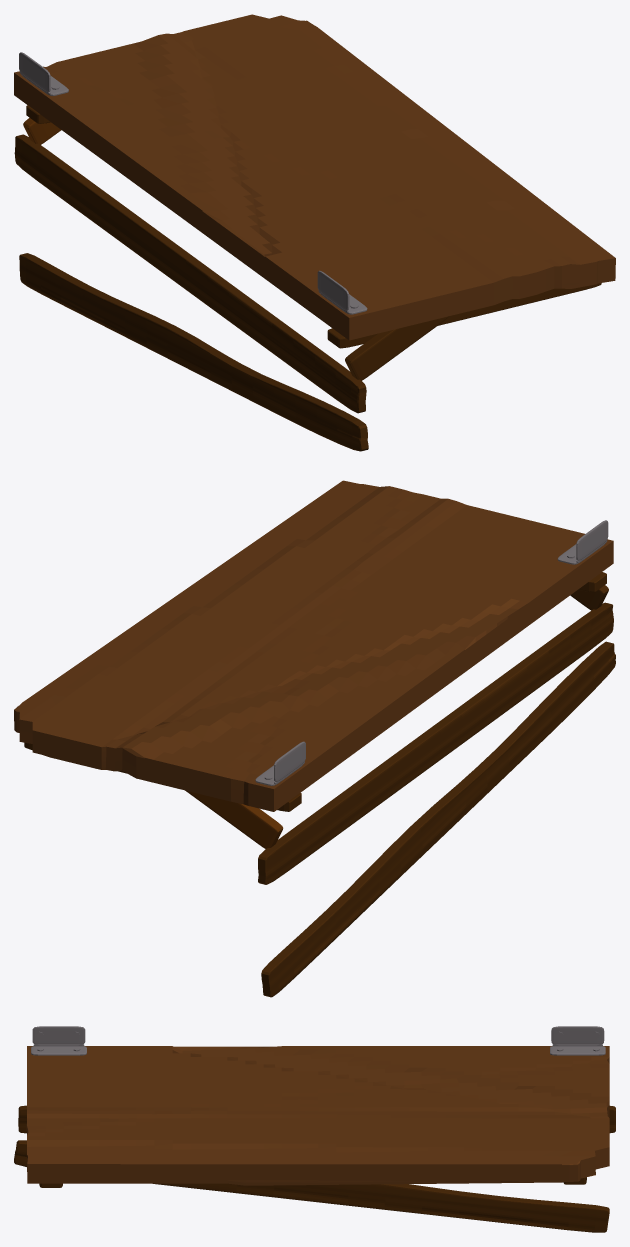
The model's file is Plant_Desk.fbx.
The picture shows the model from 3 angles, top to bottom: view 1: azimuth 30°, elevation 25°; view 2: azimuth 150°, elevation 25°; view 3: azimuth 270°, elevation 25°; orthographic projection. The views are drawn at different scales.
Visible parts, largest first — view 1: Cube.001, Cube, Cube.004, Cube.002, Cube.010, Cube.006, Cube.008, Cube.009; view 2: Cube.001, Cube, Cube.004, Cube.009, Cube.006, Cube.008; view 3: Cube.001, Cube.004, Cube.006, Cube.008, Cube.007, Cube.014, Cube.
Boxes of the visible parts, x1,y1,x2,y2 form: Cube.001: (14,14,615,340); Cube: (14,134,366,413); Cube.004: (19,253,368,451); Cube.002: (345,316,449,380); Cube.010: (327,283,601,348); Cube.006: (317,270,349,310); Cube.008: (19,52,50,92); Cube.009: (23,118,61,144); Cube.001: (14,480,613,811); Cube: (258,602,613,884); Cube.004: (261,641,615,997); Cube.009: (185,790,283,848); Cube.006: (576,520,608,560); Cube.008: (274,741,305,781); Cube.001: (26,1046,609,1185); Cube.004: (14,1140,609,1232); Cube.006: (32,1026,85,1044); Cube.008: (551,1026,604,1044); Cube.007: (550,1046,605,1055); Cube.014: (31,1046,86,1055); Cube: (18,1105,615,1133).
Bounding box in the file's own units: 1887 × 1508 × 4073.
